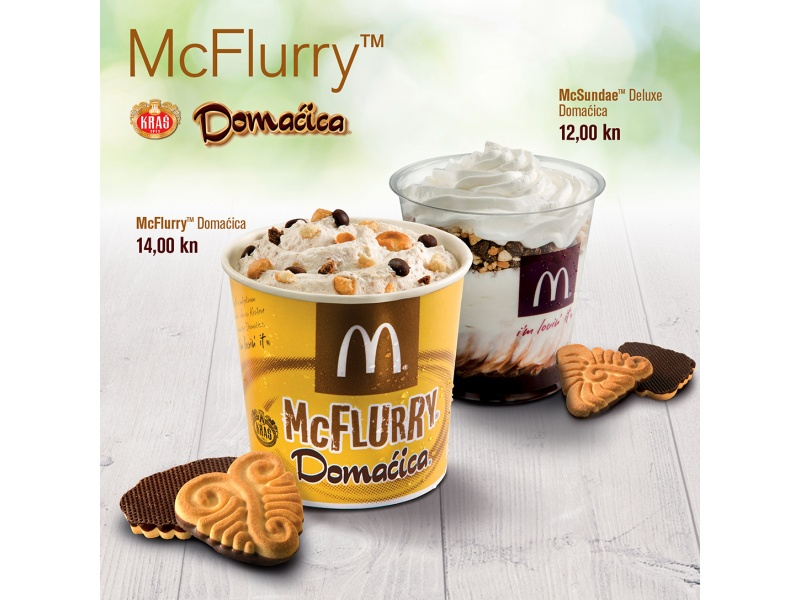mcdonalds: (326, 312, 413, 380), (521, 263, 577, 310)
